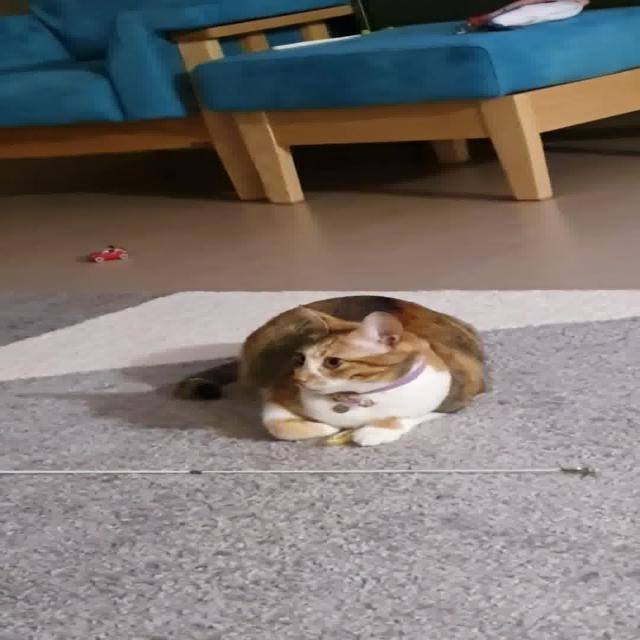cat: (167, 286, 501, 448)
